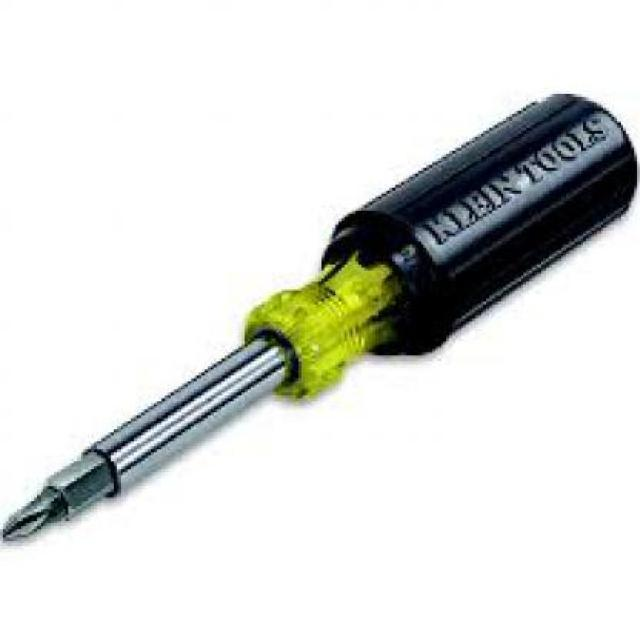screwdriver: (3, 93, 639, 544)
